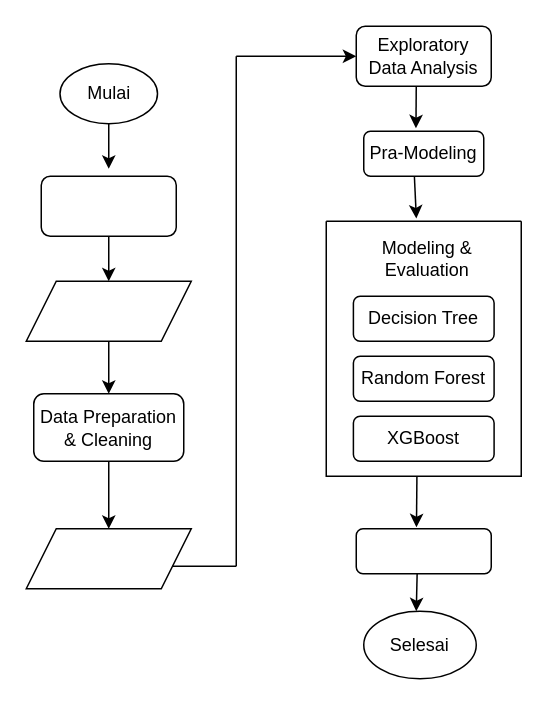
Some shapes in this 548 by 705 pixel diagram are drawn without their labels. Here are the shapes that lost their labels. From the top down, the centre of each, then its label:
At point 108,205: "Pengumpulan Data".
At point 108,310: "Data Mentah".
At point 108,558: "Data Bersih".
At point 423,550: "Deployment".
